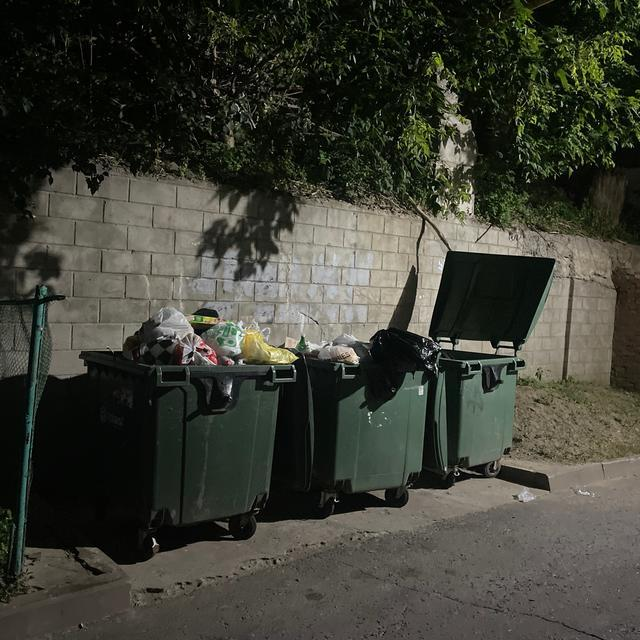Trash_Can_Empty: (435, 346, 520, 469)
Trash_Can_Full: (81, 305, 298, 522), (300, 327, 435, 494)
